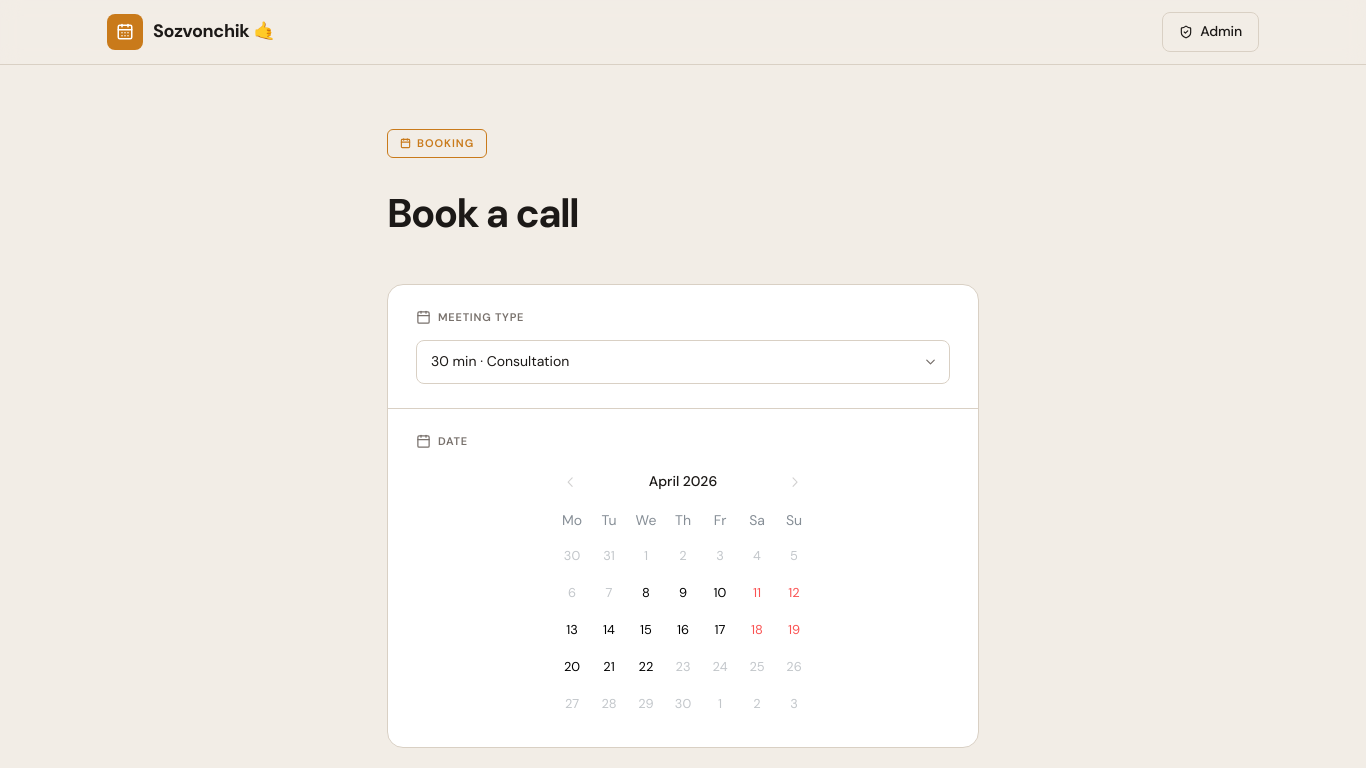
BookCallPage › displays slot grid after selecting a date
This screenshot has width=1366, height=768.
Expected: the dropdown with test id "event-type-select" is shown, [416,340,950,384]
Click the button "10".
click(720, 593)  # box [702,575,738,611]
(page scrolled)
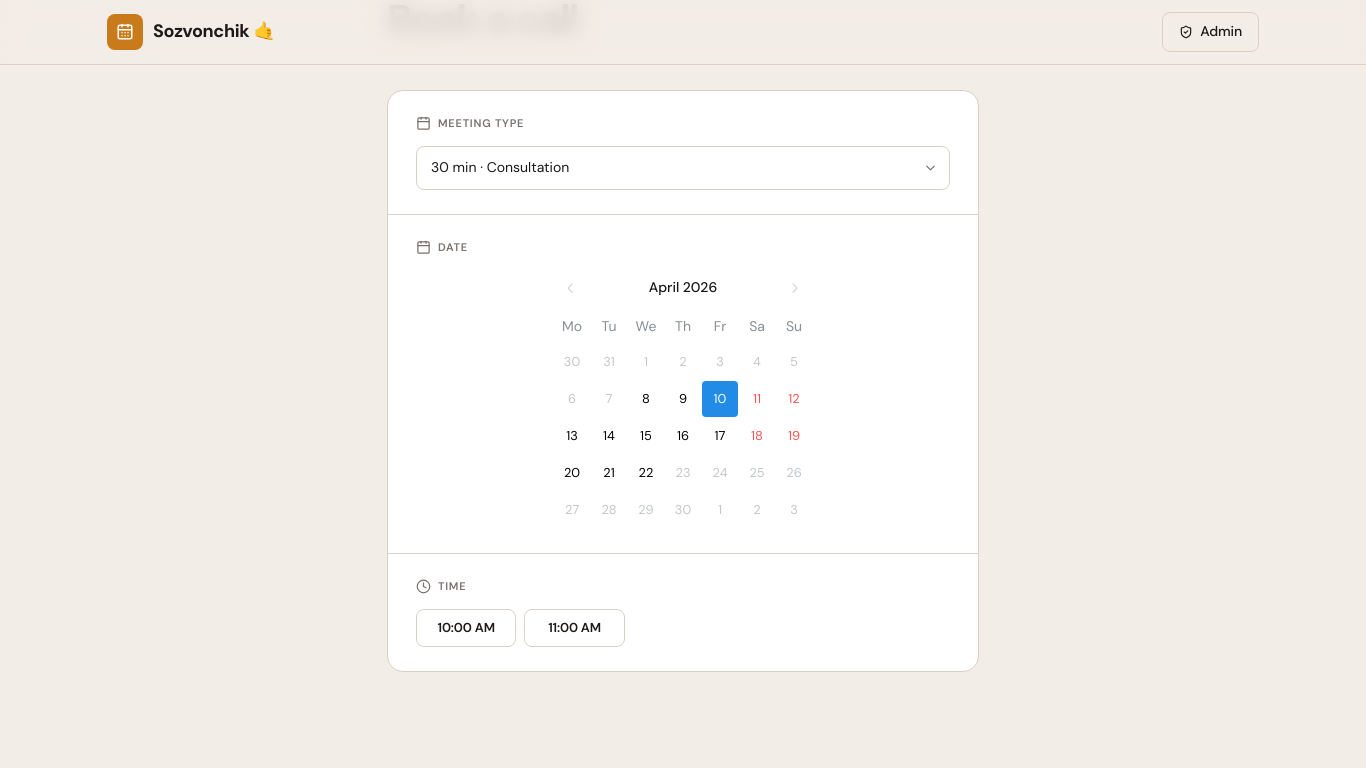
Result: the element with test id "slots-grid" is shown at [416,609,625,647]
Result: the button with test id "slot-2026-04-10T10:00:00.000Z" is shown at [416,609,516,647]
Result: the button with test id "slot-2026-04-10T11:00:00.000Z" is shown at [524,609,625,647]
